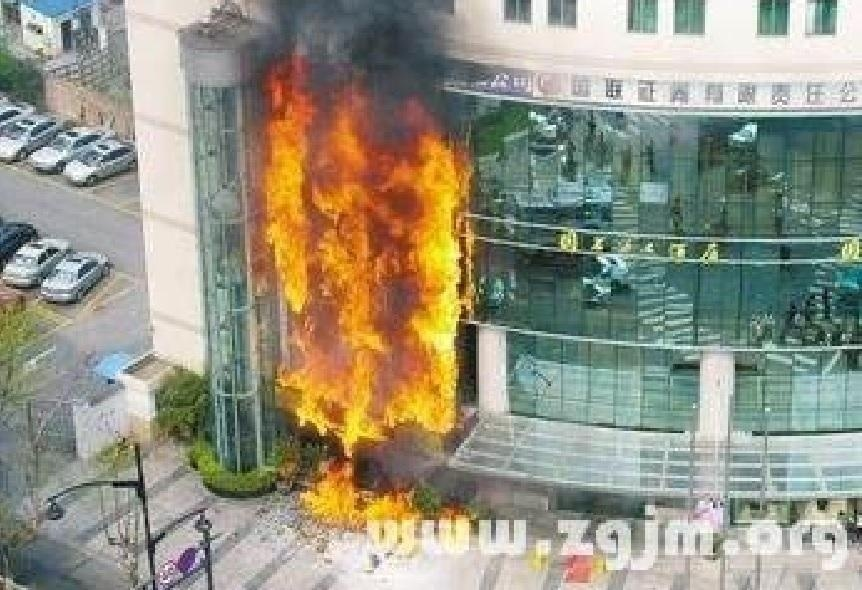fire: (262, 55, 469, 480)
